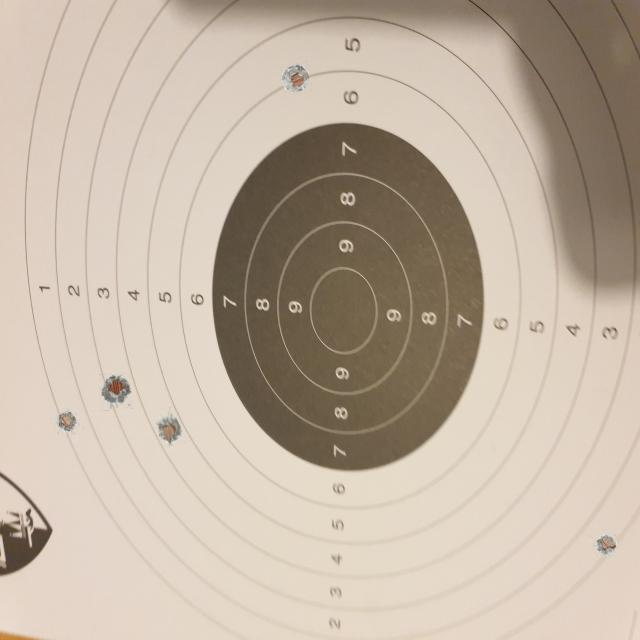1: (592, 532, 618, 558), (54, 409, 79, 436)
3: (101, 375, 131, 408)
4: (156, 407, 182, 446)
6: (280, 63, 310, 94)
Target: (26, 0, 638, 640)
black_contour: (213, 121, 484, 472)
